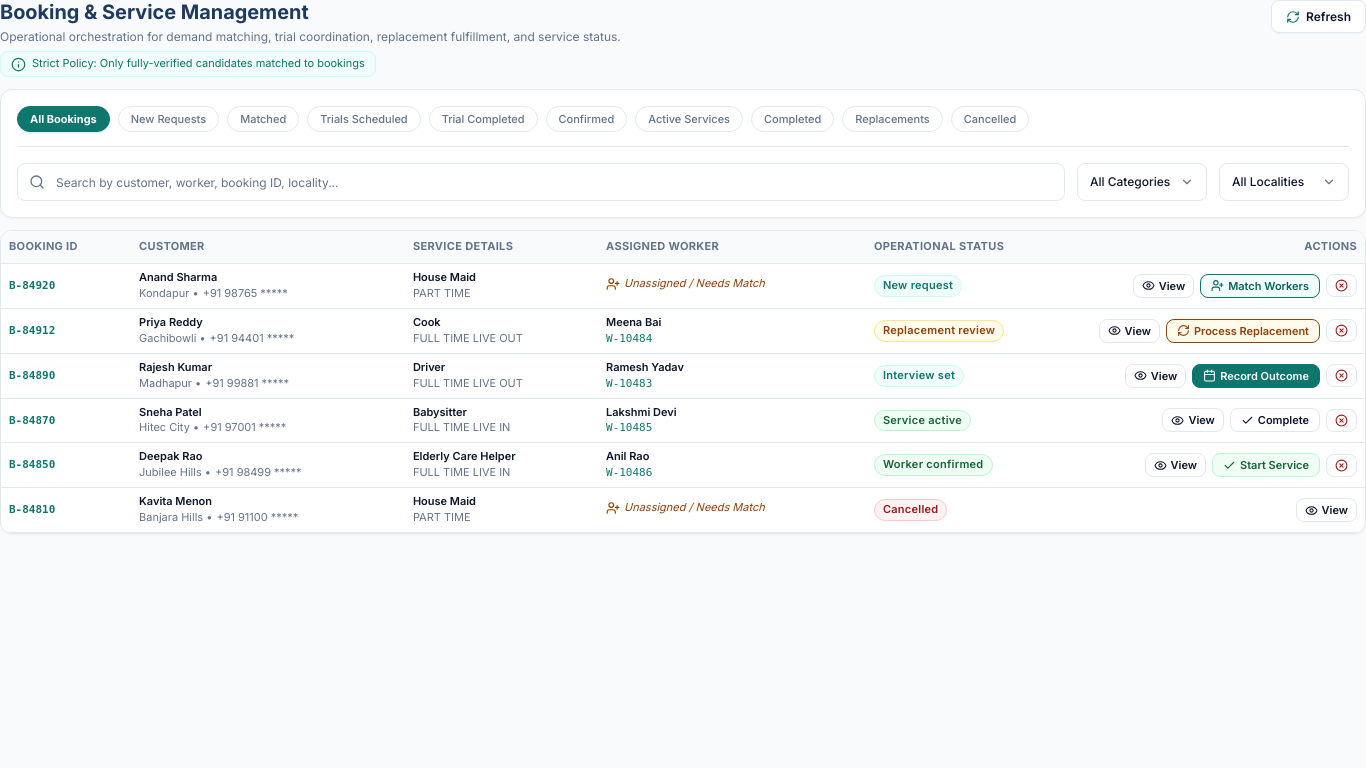
Scenario: Portal-wide Clickable Table Rows Verification › verifies clickable rows in Booking Management page
This screenshot has width=1366, height=768.
Check: the heading "Booking & Service Management" is shown, box [0,0,309,24]
Note: Click row and confirm booking detail modal opens
Click the button with aria-label "View booking details for": click(683, 286) [1,264,1365,308]
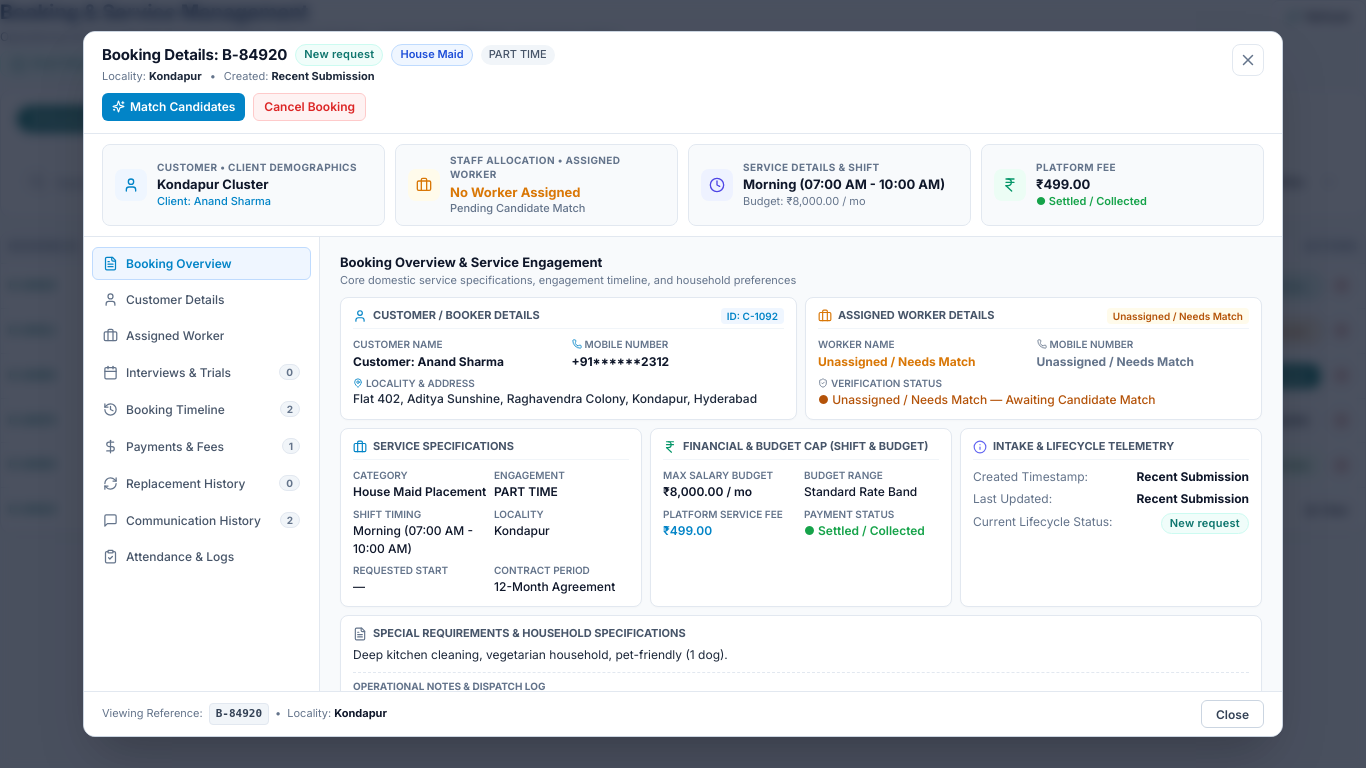
Check: the heading "Booking Details: B-84920" is shown, box [102,45,287,64]
